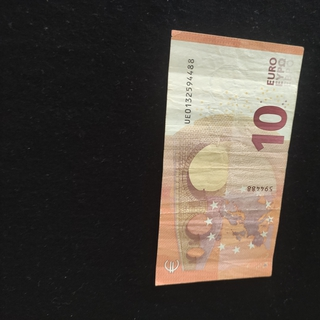10EUROBack: (154, 28, 304, 288)
